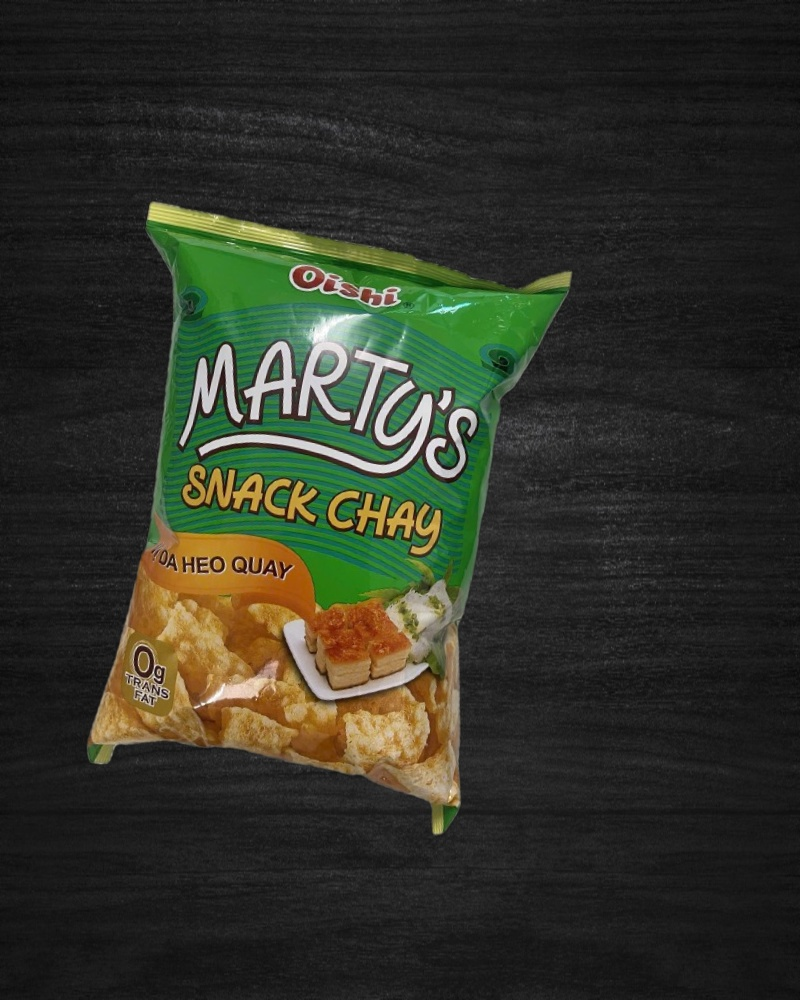Snack chay: (51, 197, 574, 843)
